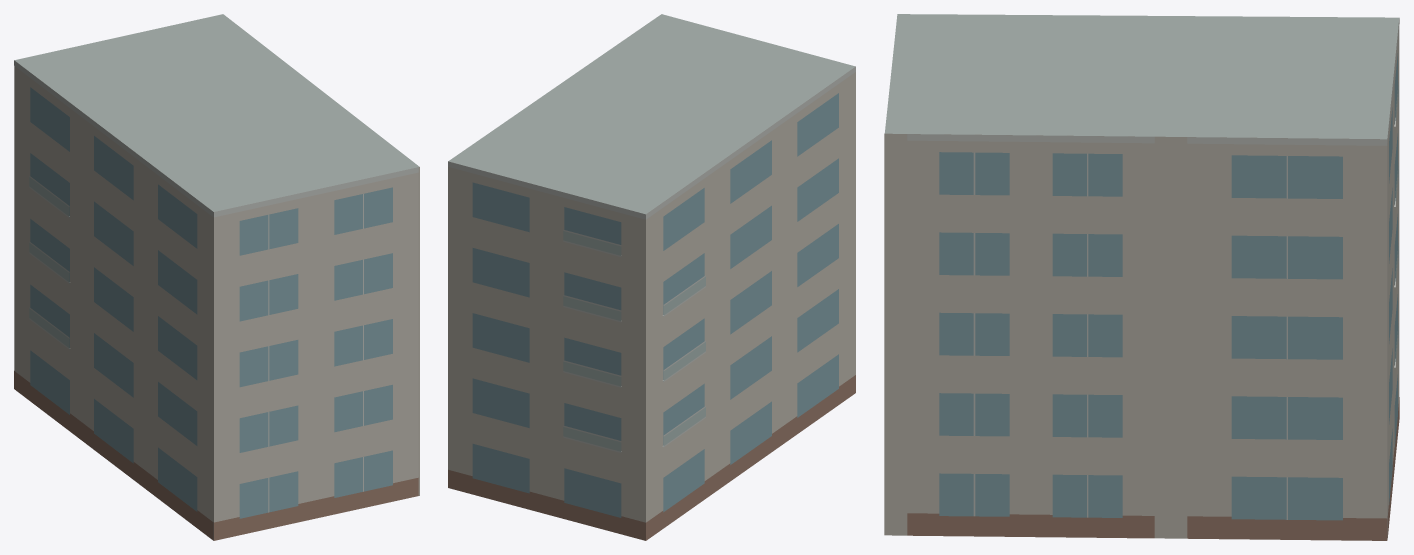
File: survey-upis-32773373.glb
3 views of the same model, side by side, from view 1: azimuth 30°, elevation 25°; view 2: azimuth 150°, elevation 25°; view 3: azimuth 270°, elevation 25° (orthographic). The views are drawn at different scales.
Parts seen in each view (by area): view 1: survey-upis-32773373.tmp; view 2: survey-upis-32773373.tmp; view 3: survey-upis-32773373.tmp.
Part boxes in pixels (x1,y1,x2,y2): survey-upis-32773373.tmp: (14, 14, 419, 540); survey-upis-32773373.tmp: (448, 14, 855, 540); survey-upis-32773373.tmp: (884, 14, 1399, 540).
Bounding box in the file's own units: 9.9 × 14.8 × 17.2.
